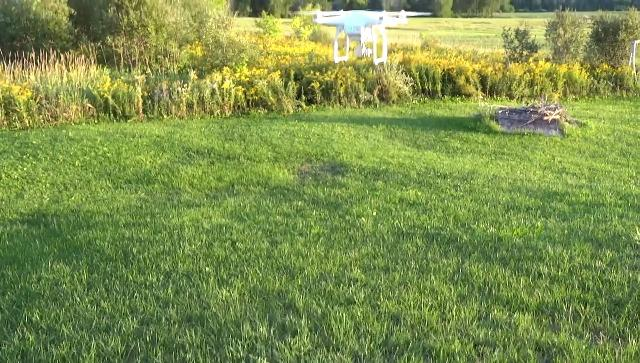drone: (302, 6, 434, 64)
